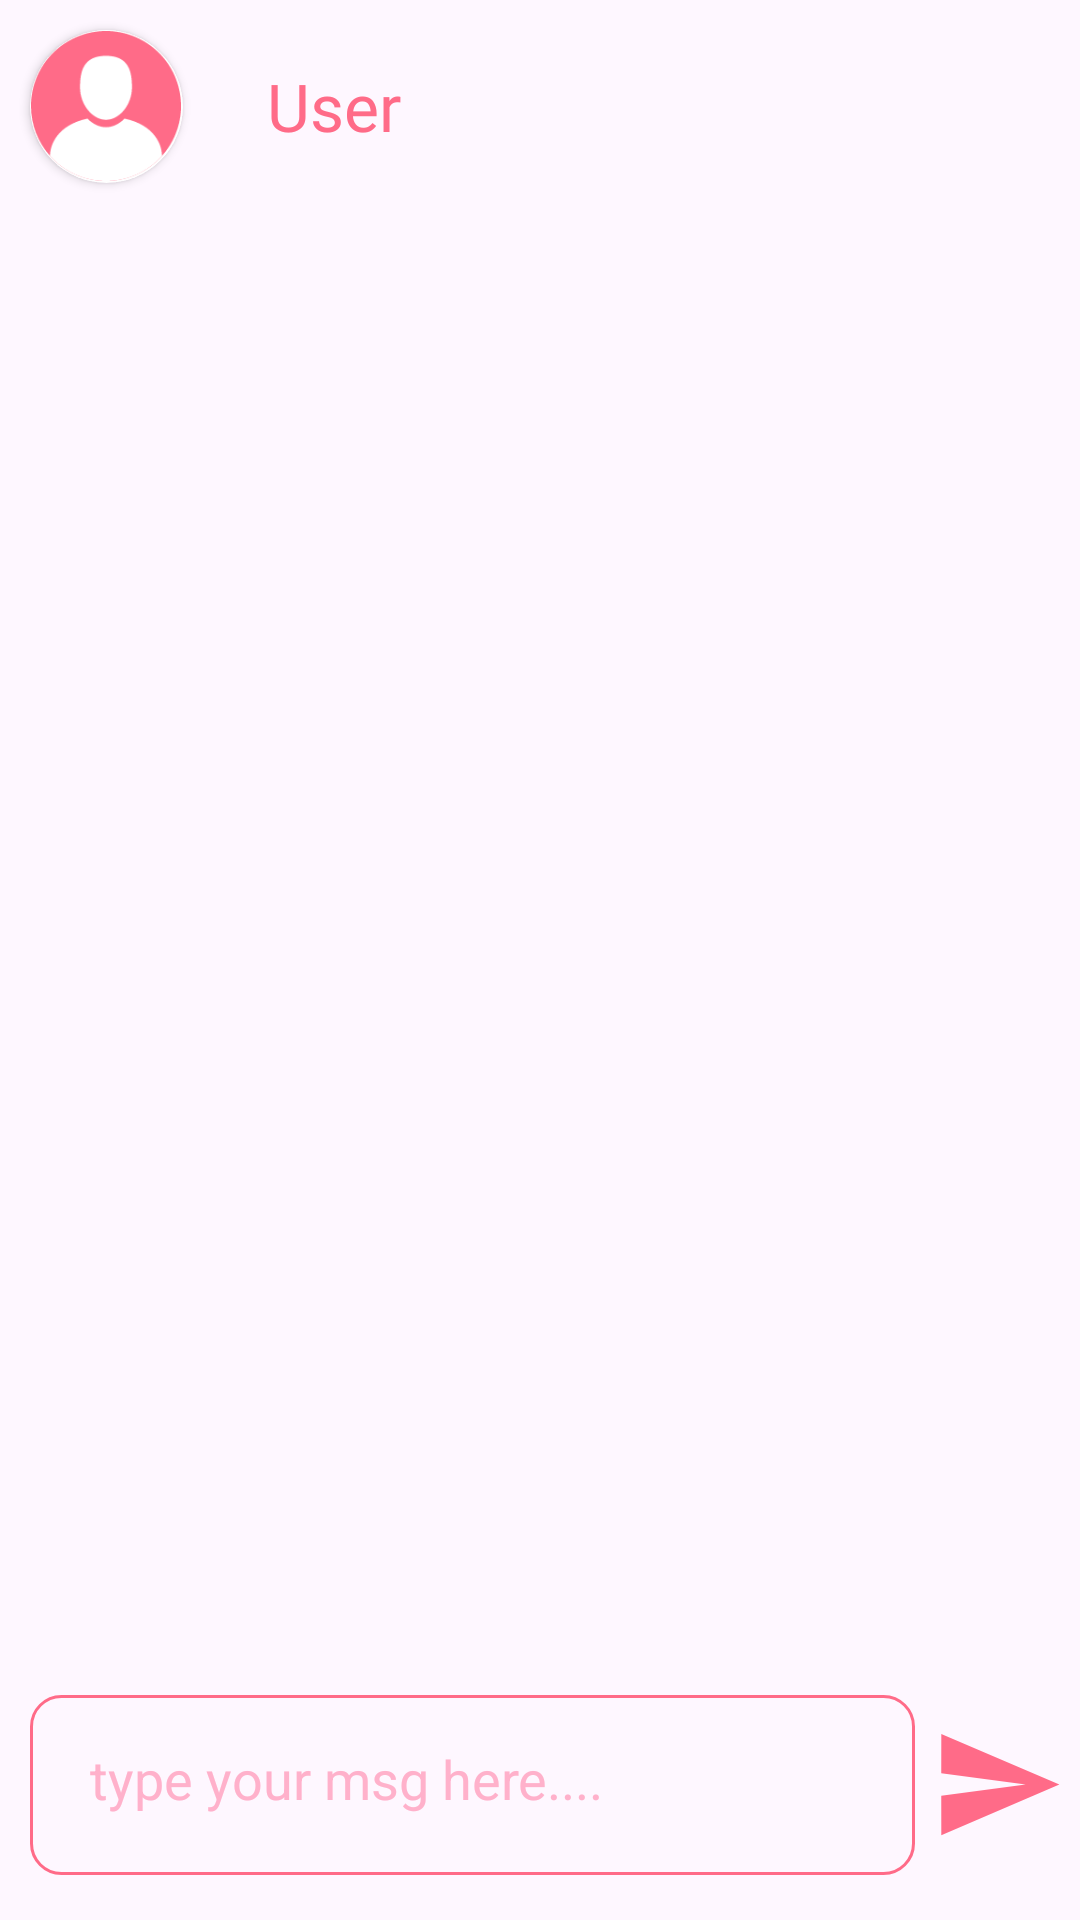

Where to tap for icons on this 1080×1920 app screen, as (x=x, y=y):
send: (x=1000, y=1784)
